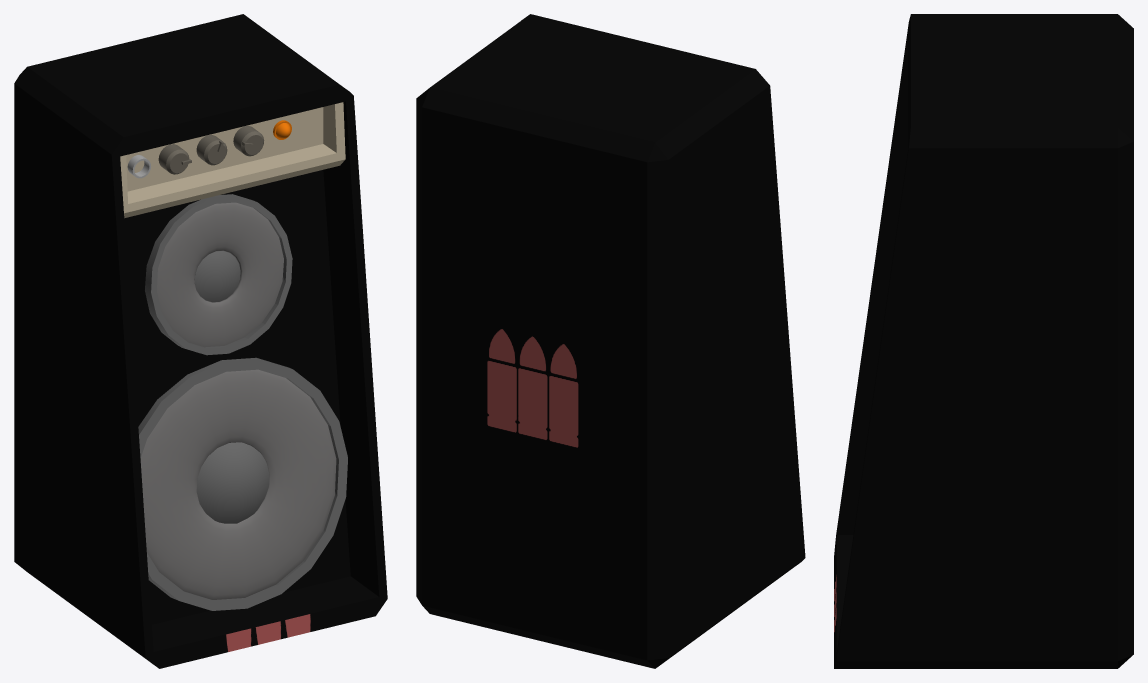
File: BulletSpeaker.fbx
3 views of the same model, side by side, from view 1: azimuth 30°, elevation 25°; view 2: azimuth 150°, elevation 25°; view 3: azimuth 270°, elevation 25° (orthographic). The views are drawn at different scales.
Parts seen in each view (by area): view 1: pCube3, pTorus1, pTorus2, pCube6, pCylinder3, pSphere1, pCylinder4, pSphere2, pCube8, pCube9, pCube10; view 2: pCube3; view 3: pCube3.
Part boxes in pixels (left/top/right/bottom): pCube3: left=14, top=14, right=387, bottom=668; pTorus1: left=140, top=369, right=336, bottom=599; pTorus2: left=157, top=202, right=283, bottom=348; pCube6: left=120, top=102, right=345, bottom=218; pCylinder3: left=138, top=357, right=347, bottom=610; pSphere1: left=196, top=442, right=269, bottom=523; pCylinder4: left=145, top=194, right=292, bottom=355; pSphere2: left=194, top=251, right=240, bottom=302; pCube8: left=158, top=144, right=191, bottom=174; pCube9: left=196, top=135, right=227, bottom=165; pCube10: left=233, top=126, right=264, bottom=156; pCube3: left=416, top=14, right=805, bottom=668; pCube3: left=834, top=14, right=1133, bottom=668.
Bounding box in the file's own units: 3.97 × 7.93 × 3.97.
7 materials, 1 textured.
